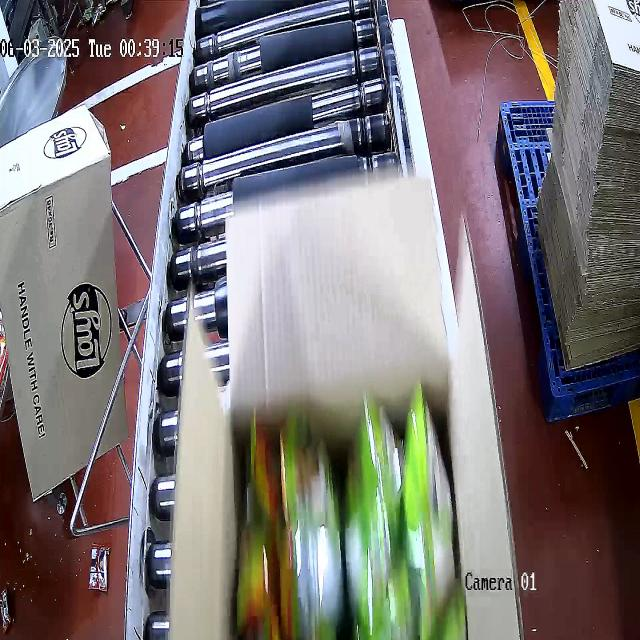YOGURT_HERB: (230, 421, 463, 640)
